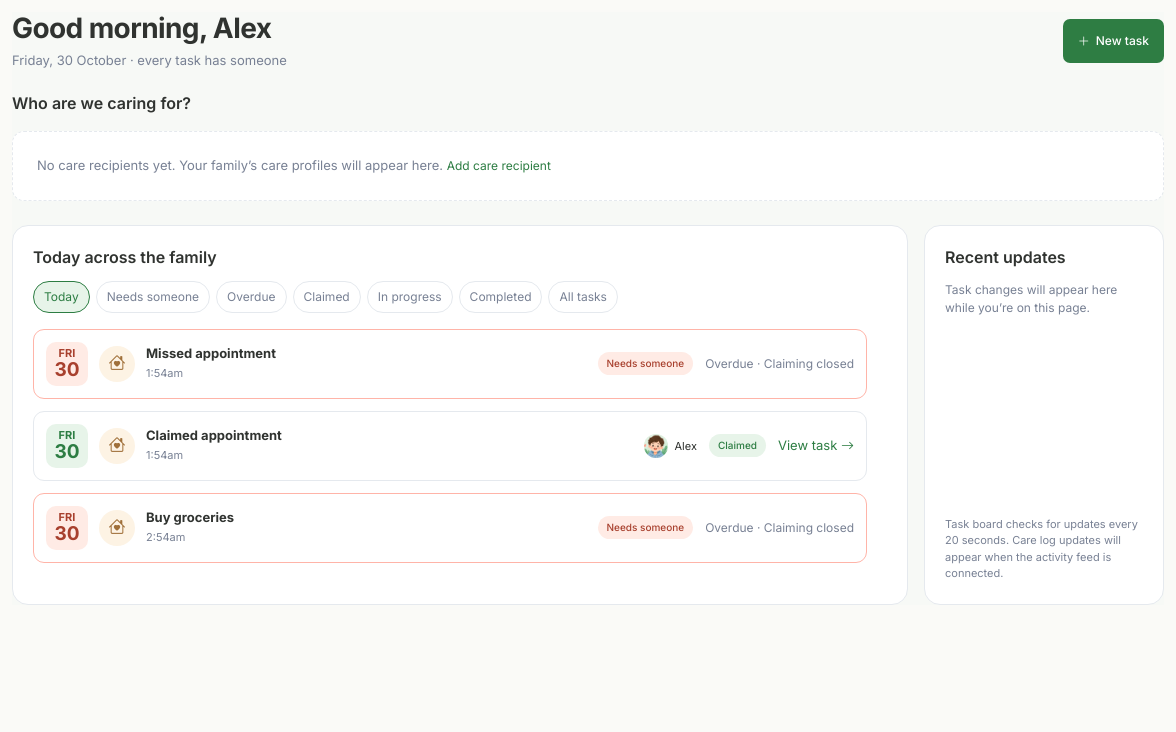
Scenario: Family home task board and navigation › separates expired unclaimed tasks from tasks that still need someone
This screenshot has width=1176, height=732.
Click the button "Needs someone" at (153, 297), box x1=96 y1=281 x2=210 y2=313
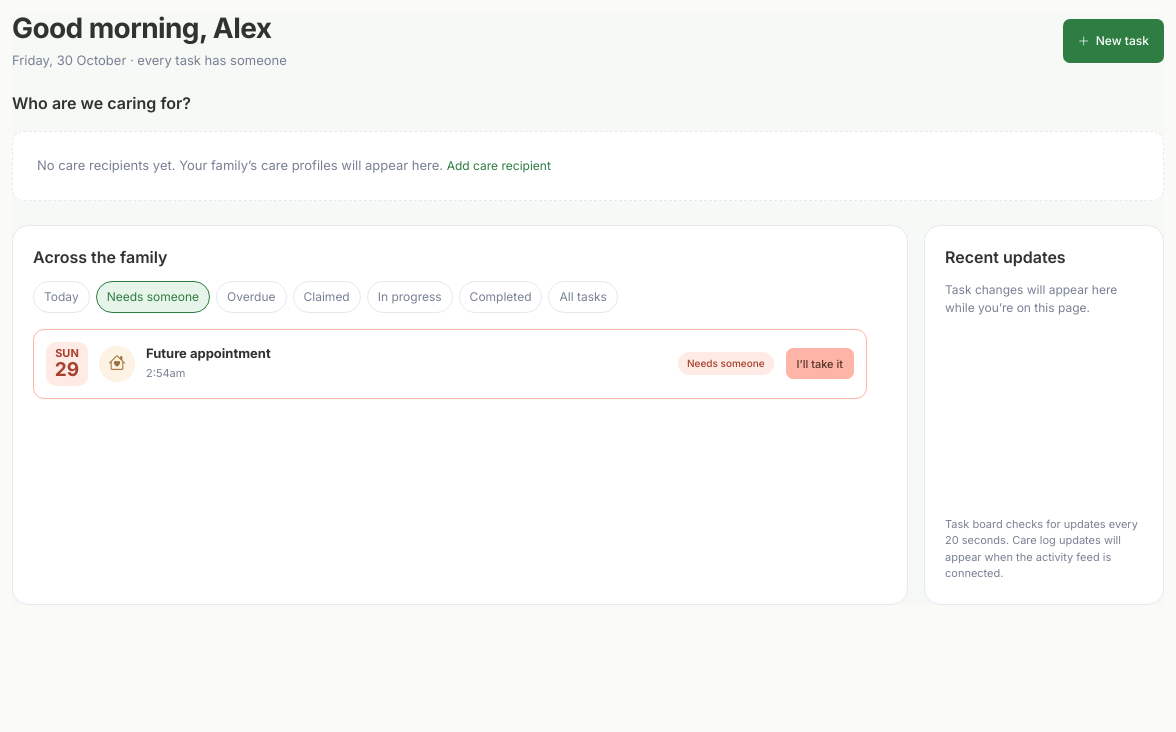
Result: the element that starts with "Across the family" shows "Future appointment" at x1=146 y1=345 x2=271 y2=361
Result: the link "Missed appointment" no longer shows "Missed appointment"
Click the button "Overdue" at (251, 297), box x1=216 y1=281 x2=287 y2=313
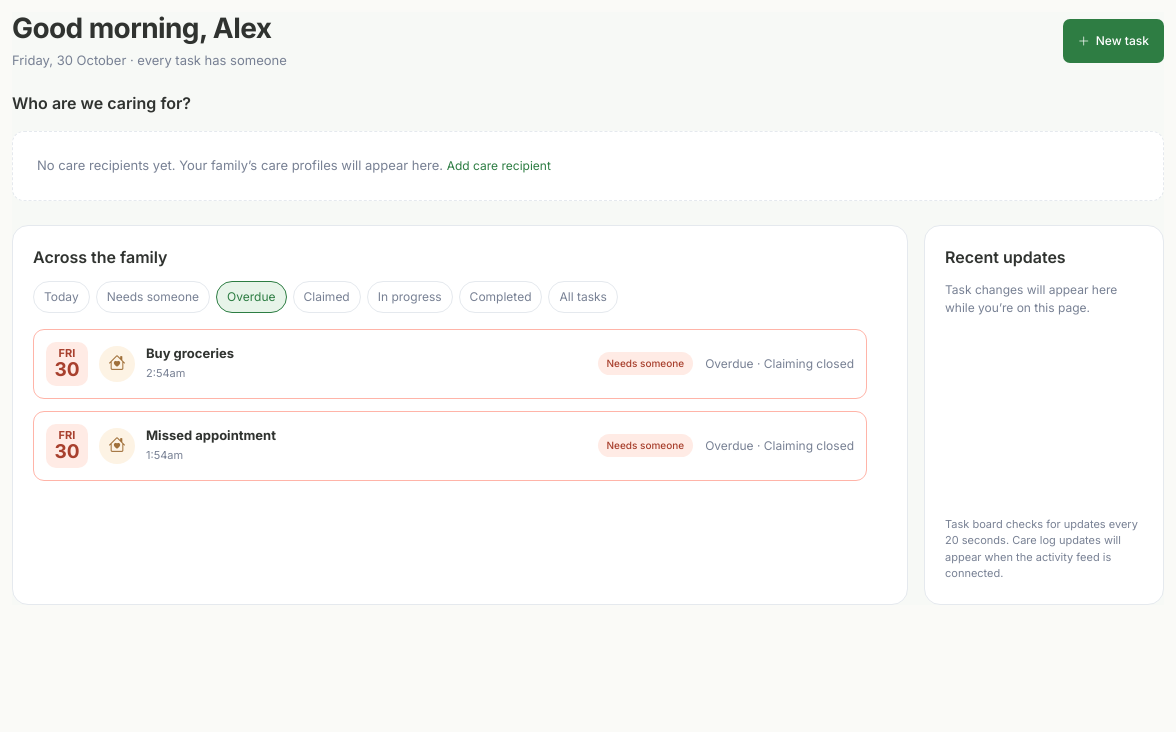
Result: the element that starts with "Across the family" shows "Missed appointment" at x1=146 y1=427 x2=276 y2=443
Result: the element that starts with "Across the family" shows "Overdue · Claiming closed" at x1=705 y1=356 x2=854 y2=371
Result: the link "Future appointment" no longer shows "Future appointment"
